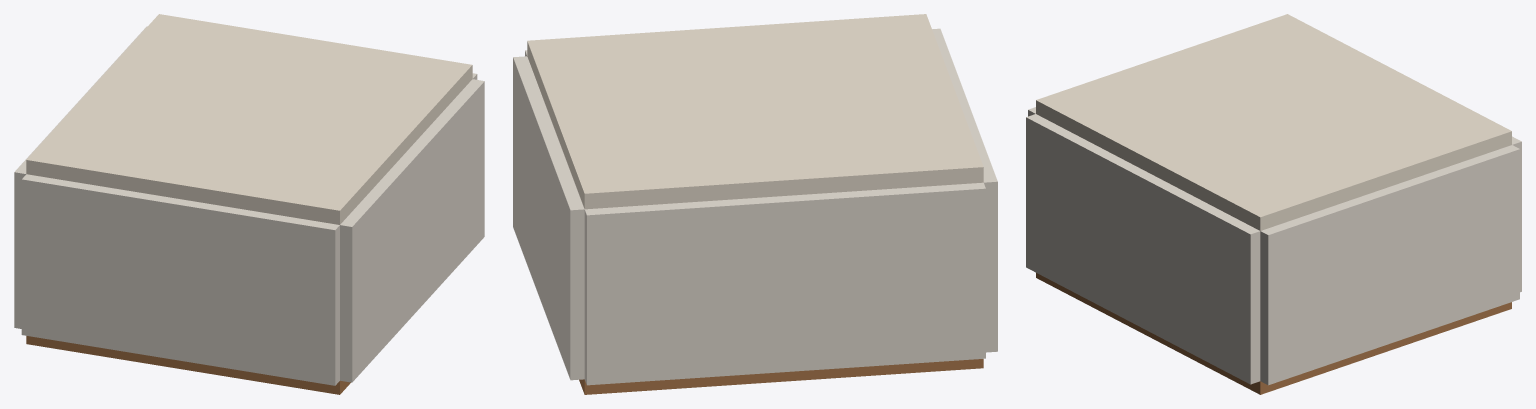
3 views of the same model, side by side, from view 1: azimuth 30°, elevation 25°; view 2: azimuth 150°, elevation 25°; view 3: azimuth 270°, elevation 25° (orthographic). The views are drawn at different scales.
Visible parts, largest first — view 1: Ceiling, Wall_04, Wall_01, Floor, Wall_03; view 2: Wall_03, Ceiling, Wall_02, Floor, Wall_04; view 3: Ceiling, Wall_02, Wall_01, Floor.
Part boxes in pixels (x1,y1,x2,y2): Ceiling: [26, 14, 472, 224]; Wall_04: [21, 174, 339, 385]; Wall_01: [340, 79, 484, 382]; Floor: [26, 336, 350, 394]; Wall_03: [14, 26, 147, 328]; Wall_03: [584, 182, 985, 385]; Ceiling: [527, 14, 983, 209]; Wall_02: [513, 56, 584, 380]; Floor: [579, 359, 983, 394]; Wall_04: [932, 28, 997, 352]; Ceiling: [1036, 14, 1511, 230]; Wall_02: [1260, 145, 1519, 385]; Wall_01: [1026, 114, 1260, 384]; Floor: [1036, 273, 1511, 394].
Size of the model in its own units: 9.9 by 3.99 by 9.8.
